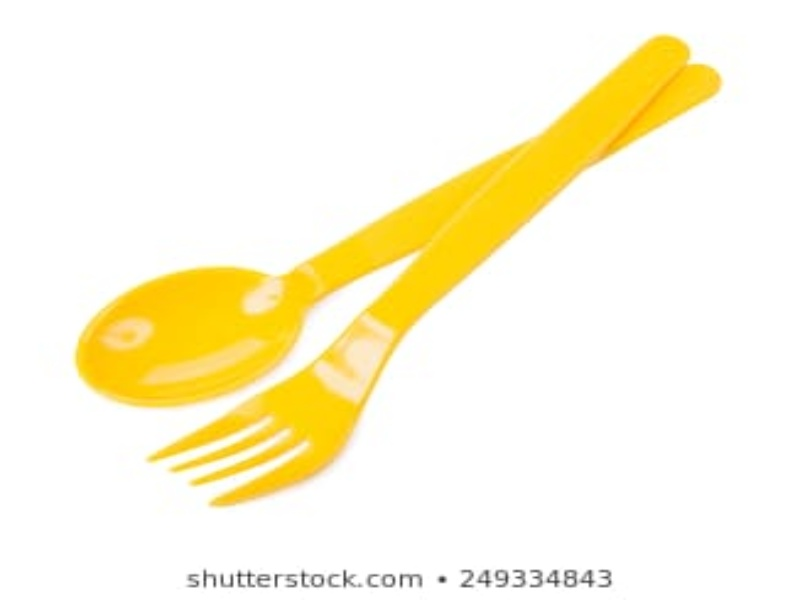plastic-silverware: (146, 34, 688, 511), (58, 56, 723, 409)
